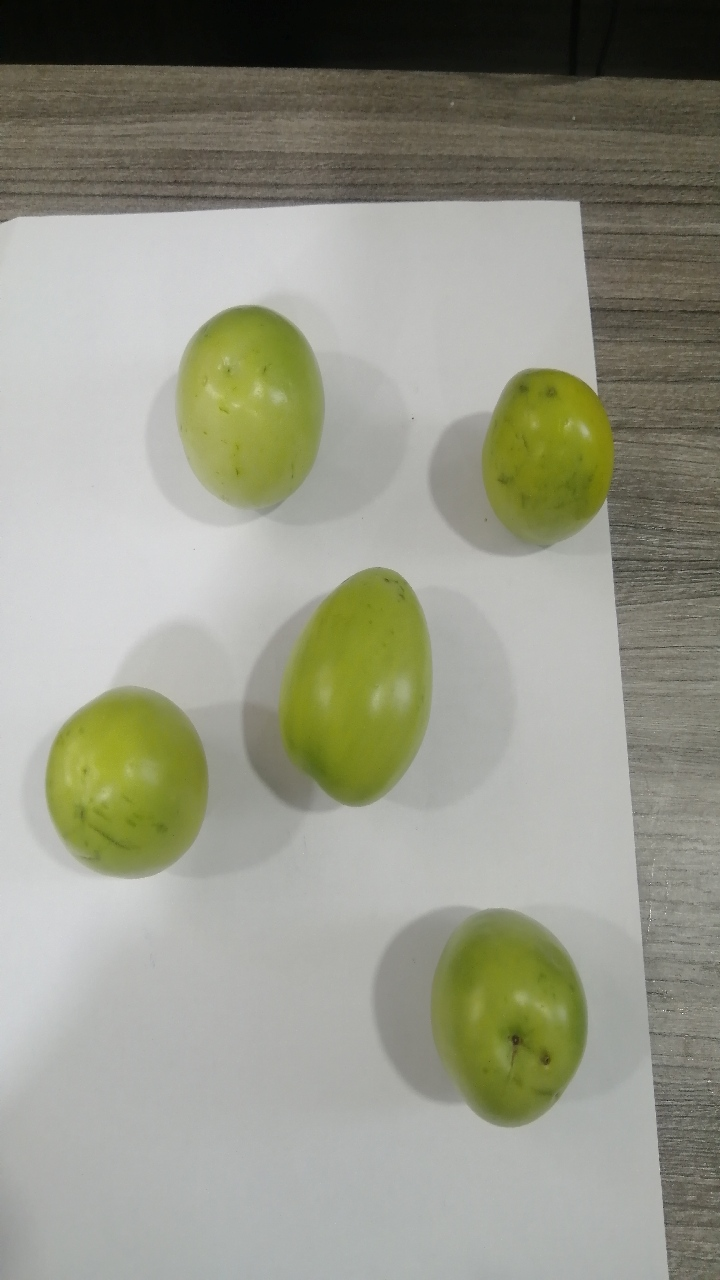tomateVerde: (260, 552, 444, 831), (163, 291, 343, 542), (26, 677, 223, 897), (404, 899, 584, 1135), (461, 345, 641, 575)
